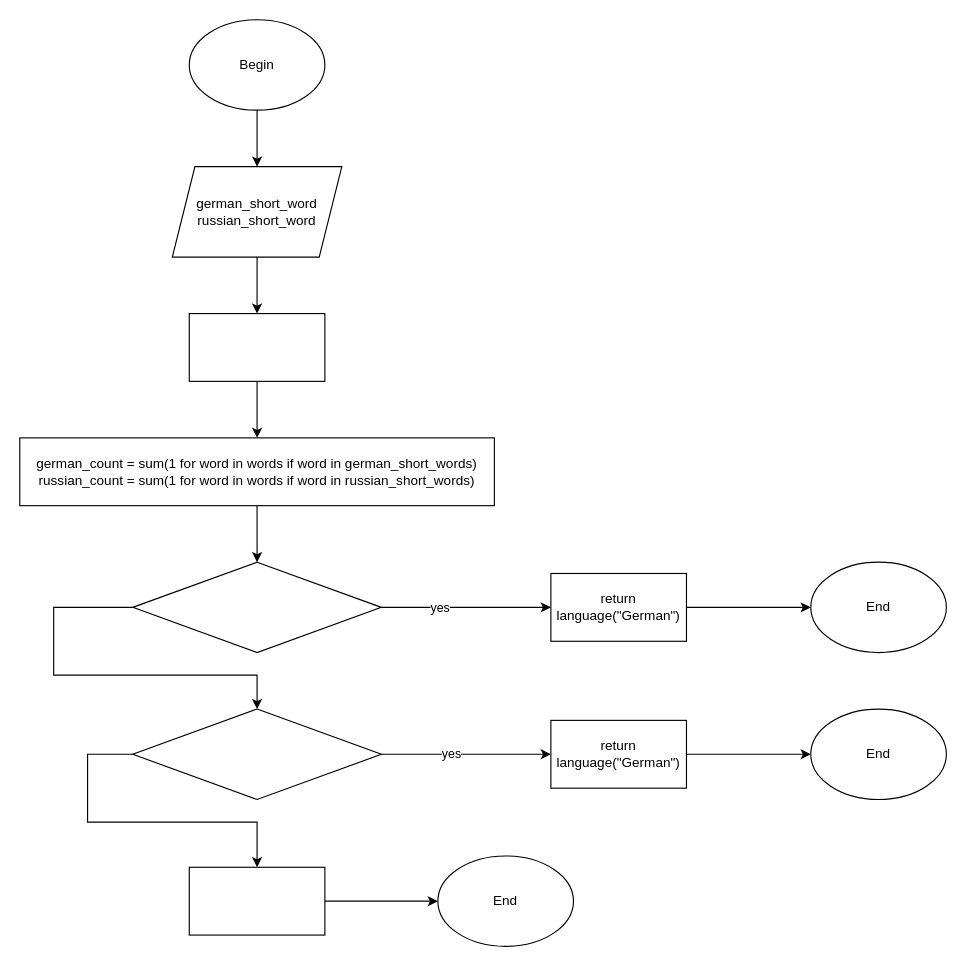
The diagram is 966 pixels wide and 966 high, and some of its shapes have lost their labels. Each missing label, with the centre of its shape:
german_count > russian_count: (256,607)
return language("Unknow"): (256,900)
russian_count > german_count: (256,753)
words = text.lower().split(): (256,346)
